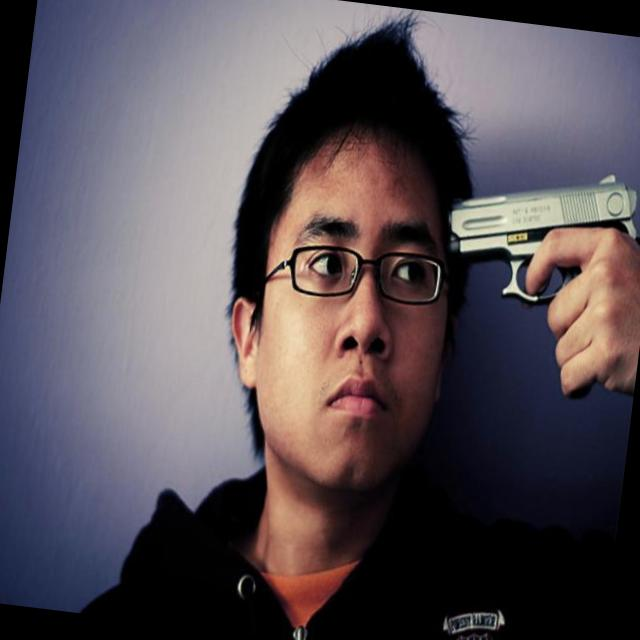Gun: (450, 175, 636, 302)
